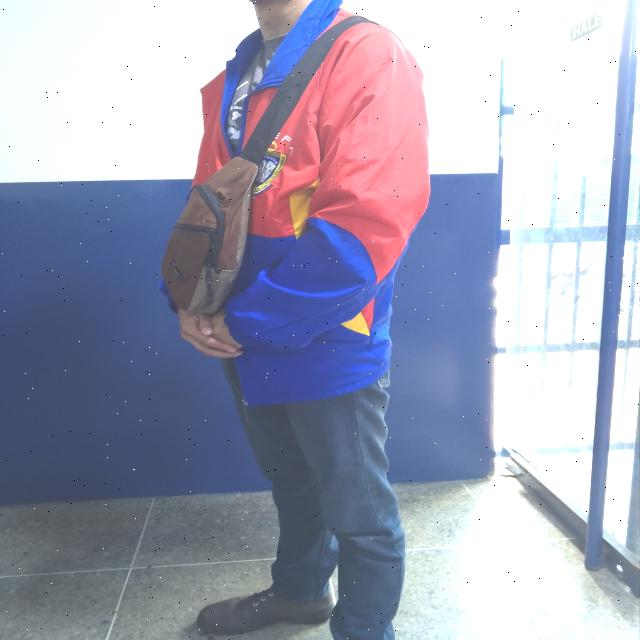chaqueta_unefa: (172, 0, 432, 409)
pantalon_oscuro: (220, 357, 406, 640)
